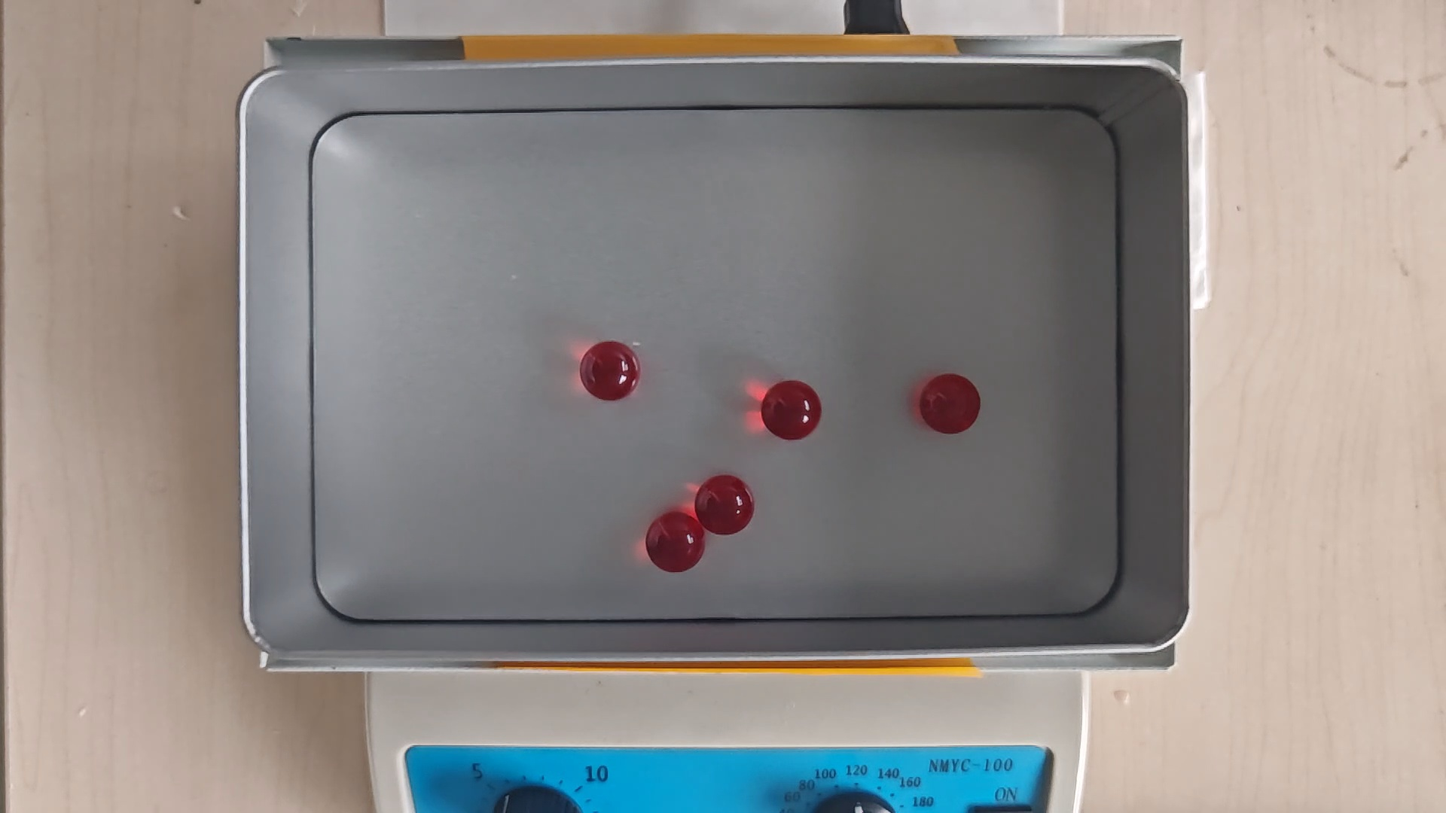ball: (694, 473, 756, 535), (762, 379, 822, 442), (922, 372, 980, 436), (647, 512, 706, 572), (582, 340, 639, 400)
container: (306, 104, 1124, 623)
